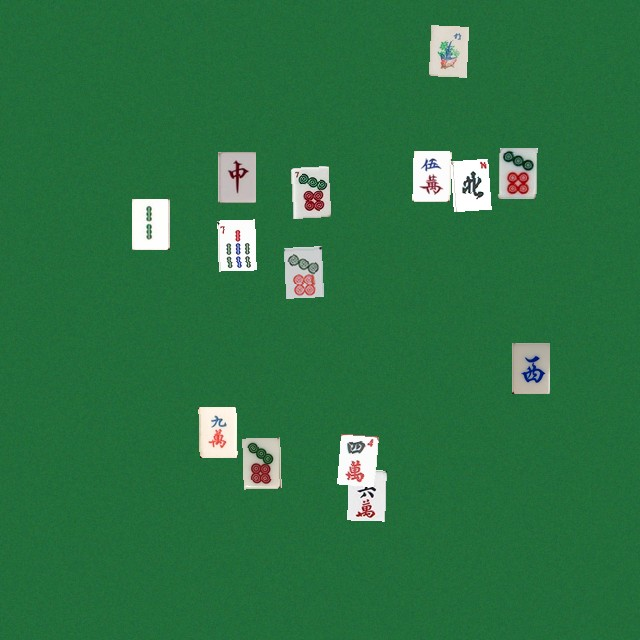tile: (412, 150, 450, 201), (242, 437, 280, 488), (347, 469, 385, 520), (217, 151, 255, 202), (450, 158, 488, 209), (131, 198, 169, 249), (336, 433, 374, 484), (290, 165, 328, 216), (283, 246, 321, 297), (498, 147, 536, 198), (198, 406, 236, 457), (428, 25, 466, 76), (217, 219, 255, 270), (511, 342, 549, 393)
